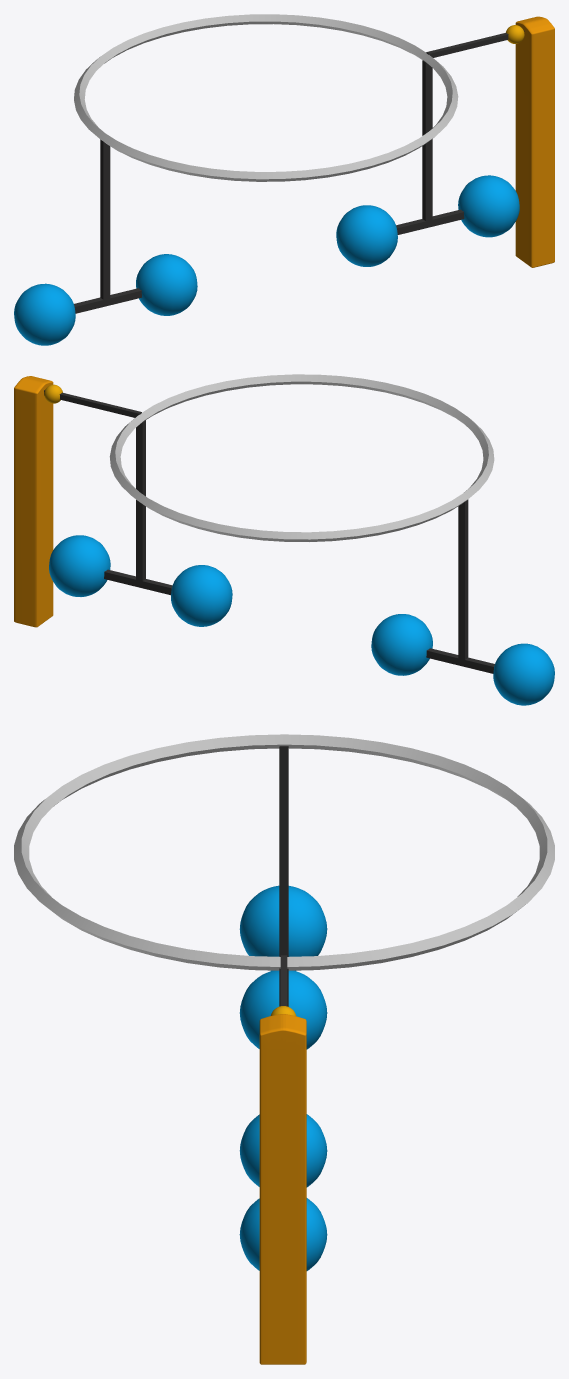
3 renders of one model, top to bottom at view 1: azimuth 30°, elevation 25°; view 2: azimuth 150°, elevation 25°; view 3: azimuth 270°, elevation 25°, orthographic. The views are drawn at different scales.
Parts seen in each view (by area): view 1: polySurface741, pTorus2, polySurface748, polySurface746; view 2: polySurface741, pTorus2, polySurface748, polySurface746; view 3: polySurface741, pTorus2, polySurface748, polySurface746.
Boxes of the visible parts, x1=… form: polySurface741: x1=426, y1=16, x2=554, y2=267; pTorus2: x1=74, y1=14, x2=458, y2=181; polySurface748: x1=14, y1=139, x2=197, y2=345; polySurface746: x1=336, y1=60, x2=519, y2=266; polySurface741: x1=14, y1=376, x2=141, y2=627; pTorus2: x1=109, y1=374, x2=494, y2=541; polySurface748: x1=371, y1=499, x2=554, y2=705; polySurface746: x1=49, y1=420, x2=232, y2=626; polySurface741: x1=259, y1=955, x2=306, y2=1364; pTorus2: x1=14, y1=734, x2=554, y2=970; polySurface748: x1=239, y1=746, x2=327, y2=1049; polySurface746: x1=239, y1=968, x2=327, y2=1270.
Size of the model in its own units: 26.84 by 11.57 by 16.86.
